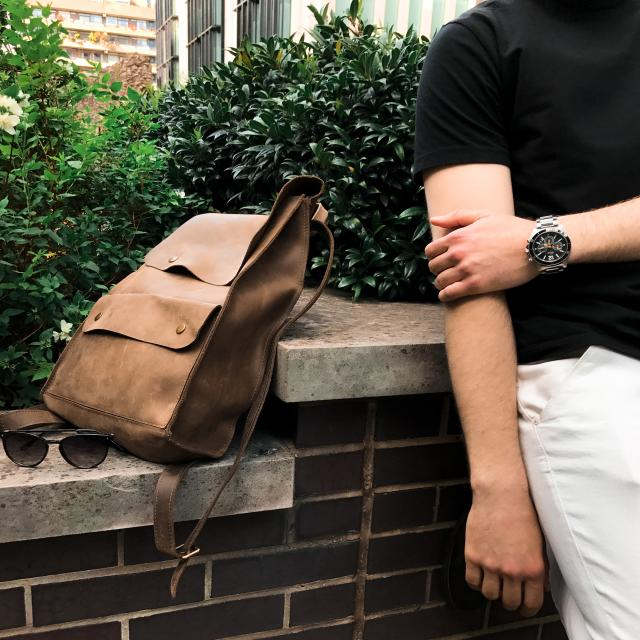backpack: (45, 171, 337, 561)
